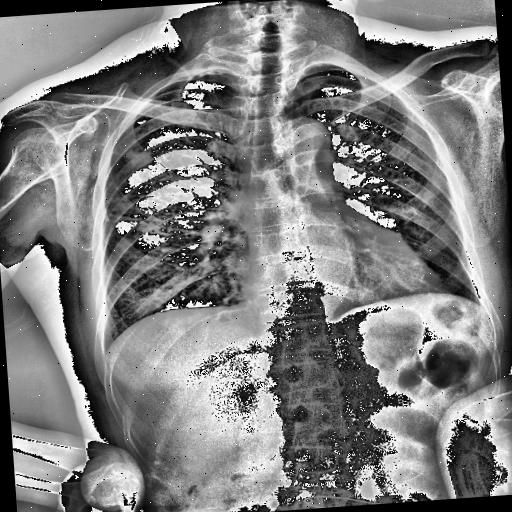0- Aortic enlargement: (274, 117, 333, 182), (268, 114, 330, 158), (282, 116, 326, 140)
11- Pleural thickening: (178, 62, 239, 81), (191, 70, 226, 78)
13- Pulmonary fibrosis: (102, 164, 238, 248), (108, 188, 194, 240), (100, 176, 146, 228), (114, 144, 152, 169), (123, 148, 153, 168)
3- Cardiomegaly: (240, 252, 448, 318), (244, 246, 446, 308)
5- ILD: (102, 164, 238, 248)
7- Lung Opacity: (124, 148, 148, 166)
8- Nodule-Mass: (323, 154, 336, 166)
